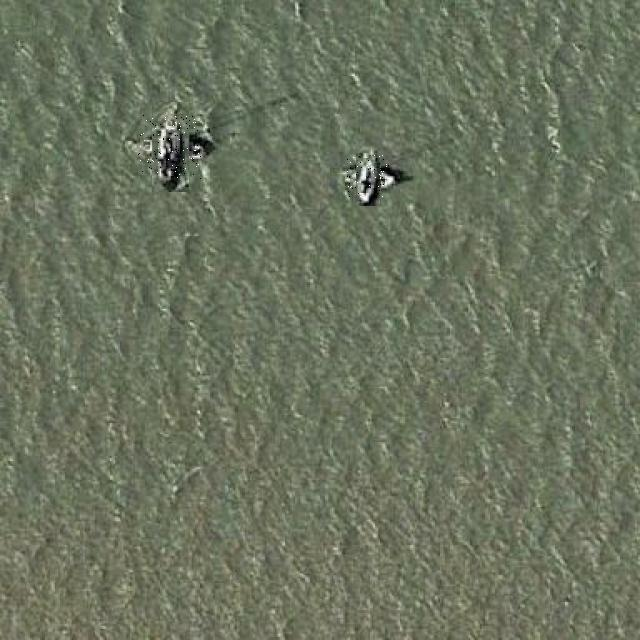boat: (138, 116, 202, 180), (347, 155, 390, 197)
